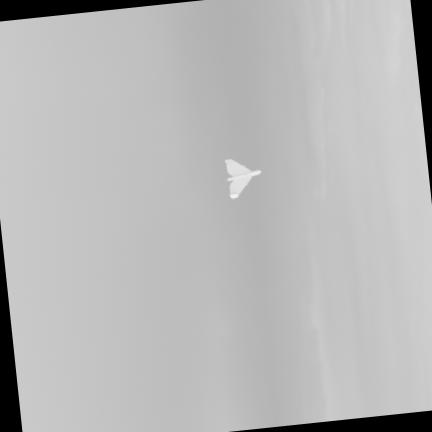Shahed: (224, 160, 260, 198)
